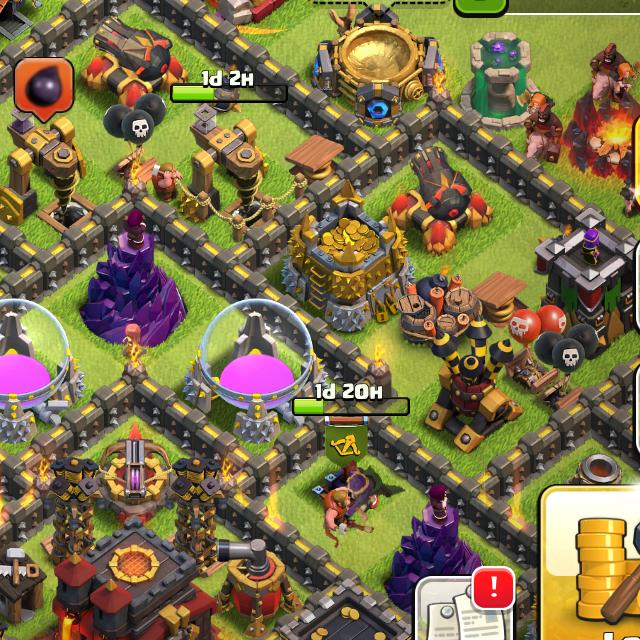FullElixirNegro: (14, 59, 74, 122)
